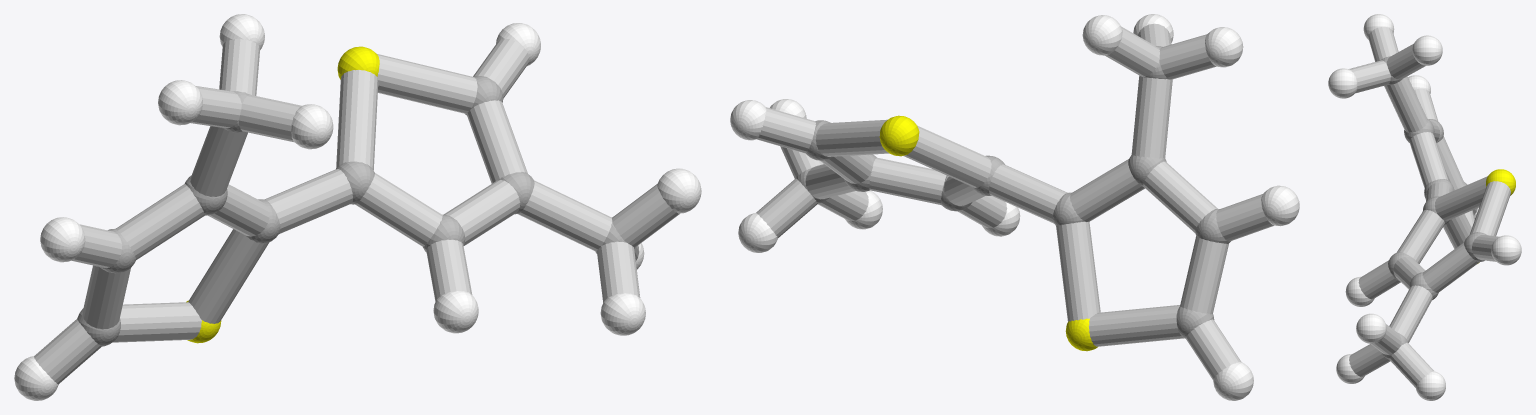
File: Methylthiophene_Phi_15_Theta_290_Methylthiophene.glb
3 renders of one model, left to right at view 1: azimuth 30°, elevation 25°; view 2: azimuth 150°, elevation 25°; view 3: azimuth 270°, elevation 25°, orthographic. The views are drawn at different scales.
Visible parts, largest first — view 1: grp7965, grp3621, grp1, grp7241; view 2: grp7965, grp3621, grp1, grp7241; view 3: grp7965, grp3621, grp1, grp7241.
Boxes of the visible parts, <box> form: grp7965: <box>34,38,679,384</box>; grp3621: <box>14,14,701,400</box>; grp1: <box>77,76,634,346</box>; grp7241: <box>186,46,379,343</box>; grp7965: <box>756,23,1273,379</box>; grp3621: <box>730,14,1299,400</box>; grp1: <box>796,46,1230,338</box>; grp7241: <box>879,115,1097,351</box>; grp7965: <box>1348,27,1510,387</box>; grp3621: <box>1328,14,1521,400</box>; grp1: <box>1380,56,1487,359</box>; grp7241: <box>1478,169,1515,263</box>.
Bounding box in the file's own units: 9.51 × 5.28 × 3.8.
